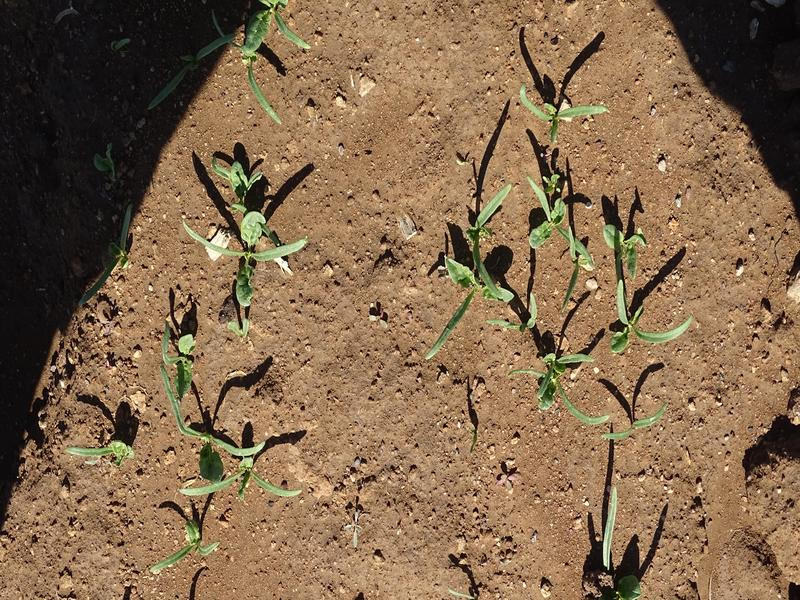Espinaca: (438, 173, 692, 440), (154, 319, 304, 512), (178, 155, 311, 306), (242, 1, 323, 127), (520, 80, 600, 142), (61, 425, 143, 477), (147, 520, 224, 570)
